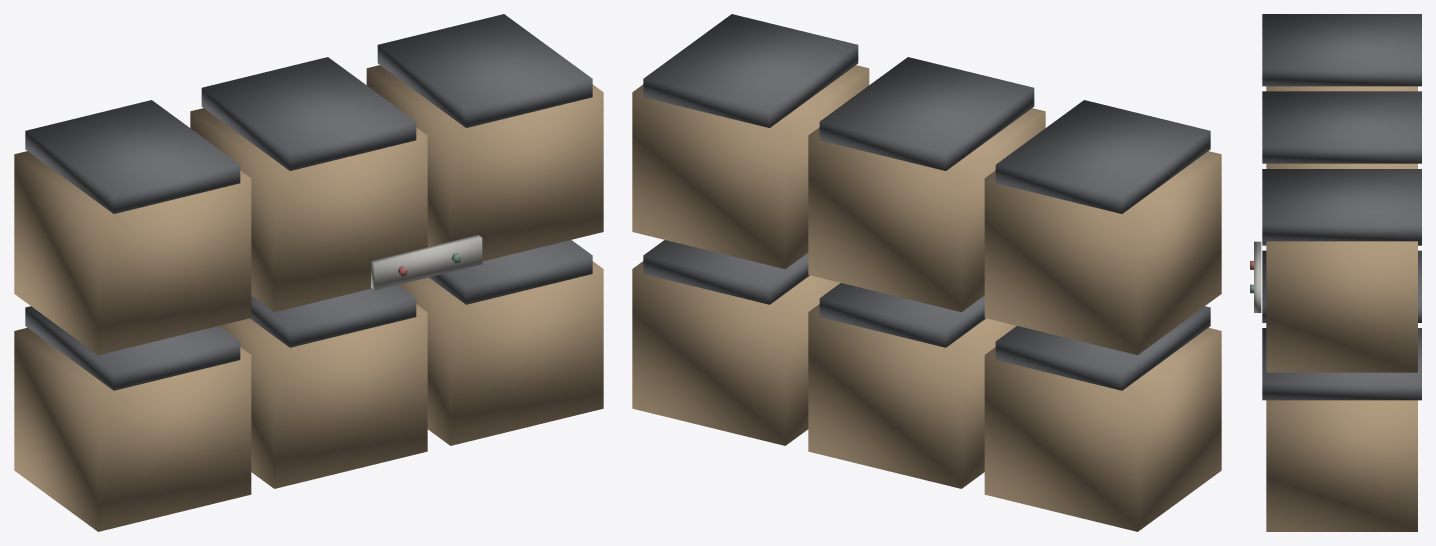
Rendered from fruit_crate_display__tall.glb.
3 renders of one model, left to right at view 1: azimuth 30°, elevation 25°; view 2: azimuth 150°, elevation 25°; view 3: azimuth 270°, elevation 25°, orthographic. The views are drawn at different scales.
Parts seen in each view (by area): view 1: world; view 2: world; view 3: world.
Boxes of the visible parts, <box> form: world: <box>14,14,603,531</box>; world: <box>632,14,1221,531</box>; world: <box>1250,14,1421,531</box>.
Size of the model in its own units: 1.32 by 0.8352 by 0.431.
